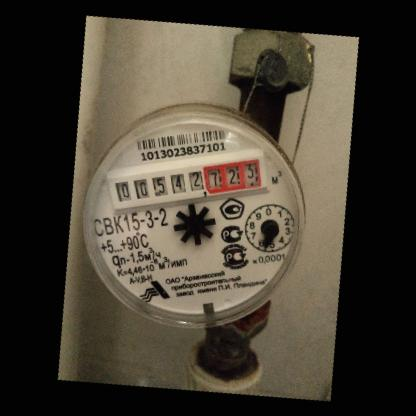digital_screen: (103, 155, 205, 211)
